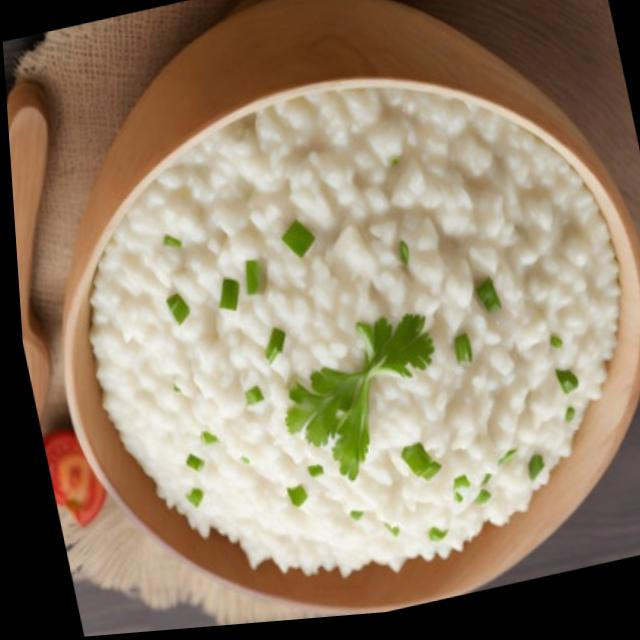CURD RICE: (93, 87, 621, 575)
